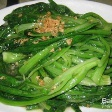youmaicai: (1, 2, 112, 111)
